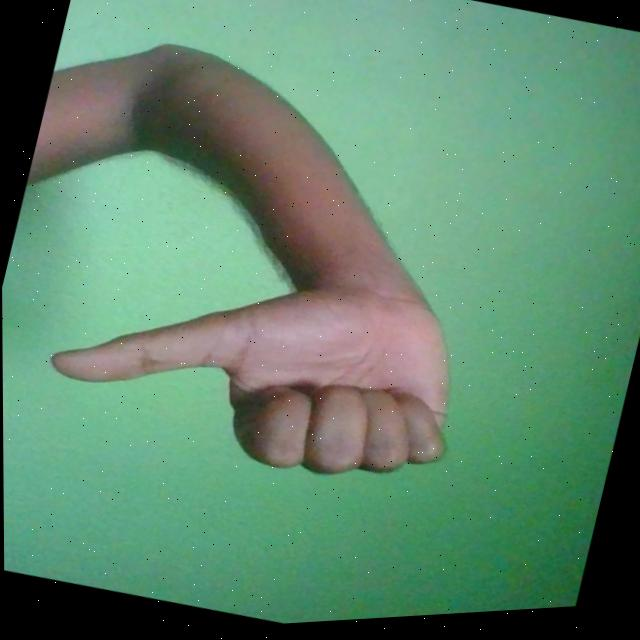Dislike: (32, 211, 483, 522)
